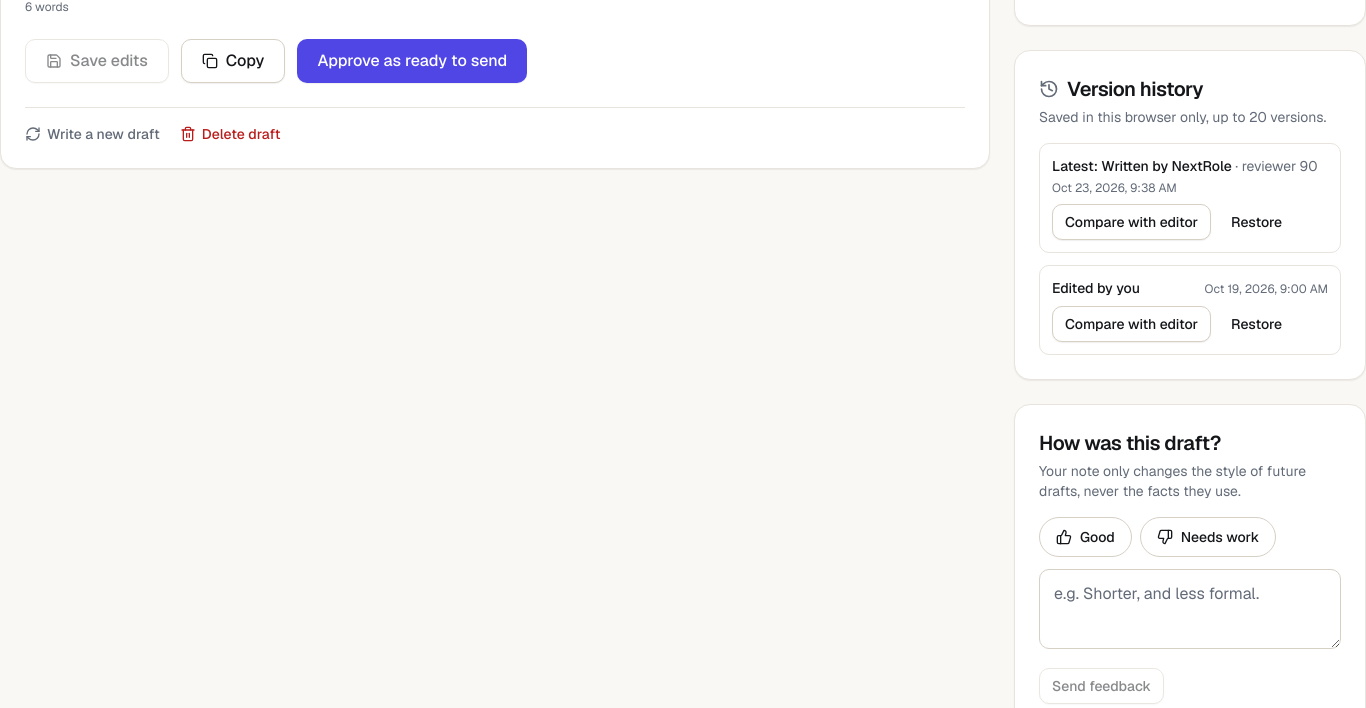
Test: OutreachPage › records version history and restores an earlier version into the editor
(page scrolled)
expect the text "Latest: Written by NextRole · reviewer 90" is shown: met, box x1=1052 y1=156 x2=1317 y2=176
Click the button "Compare with editor" below "Edited by you".
click(1132, 324)  # box x1=1052 y1=306 x2=1211 y2=342
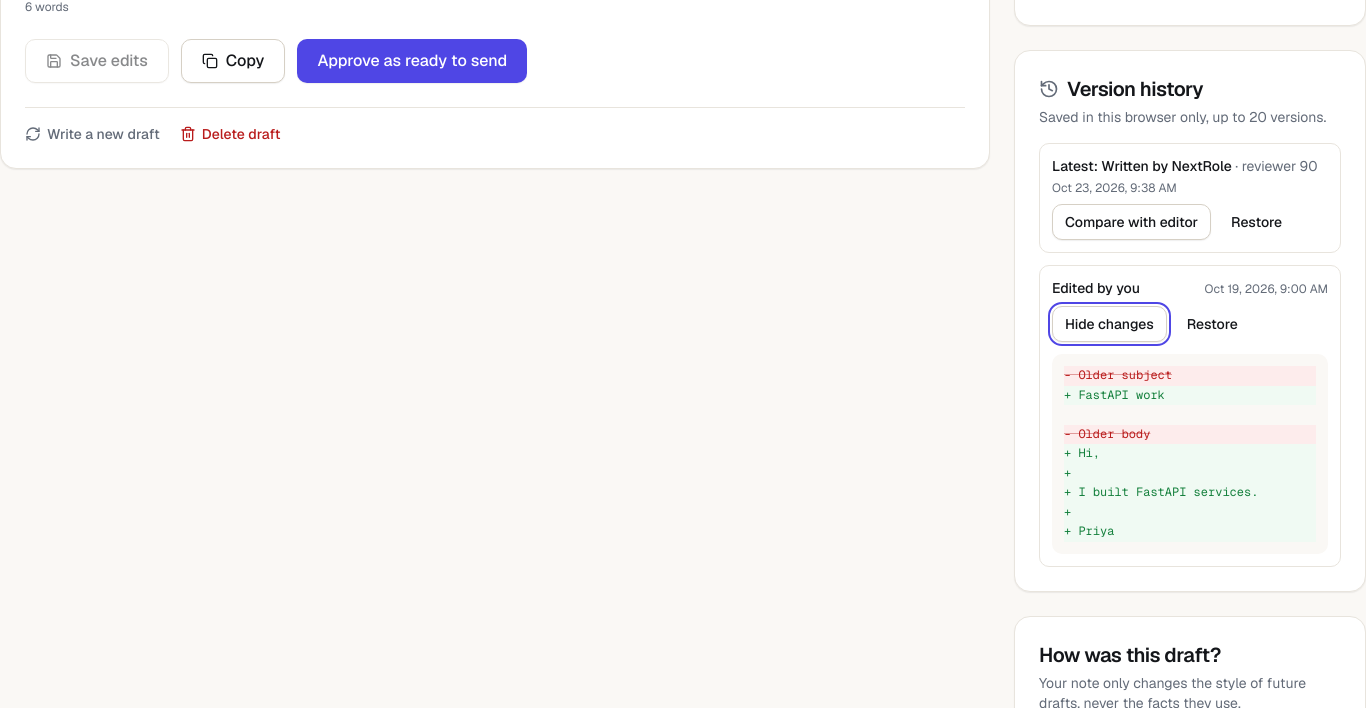
Click the button "Restore" below "Edited by you".
click(1212, 324)  # box x1=1175 y1=306 x2=1250 y2=342
(page scrolled)
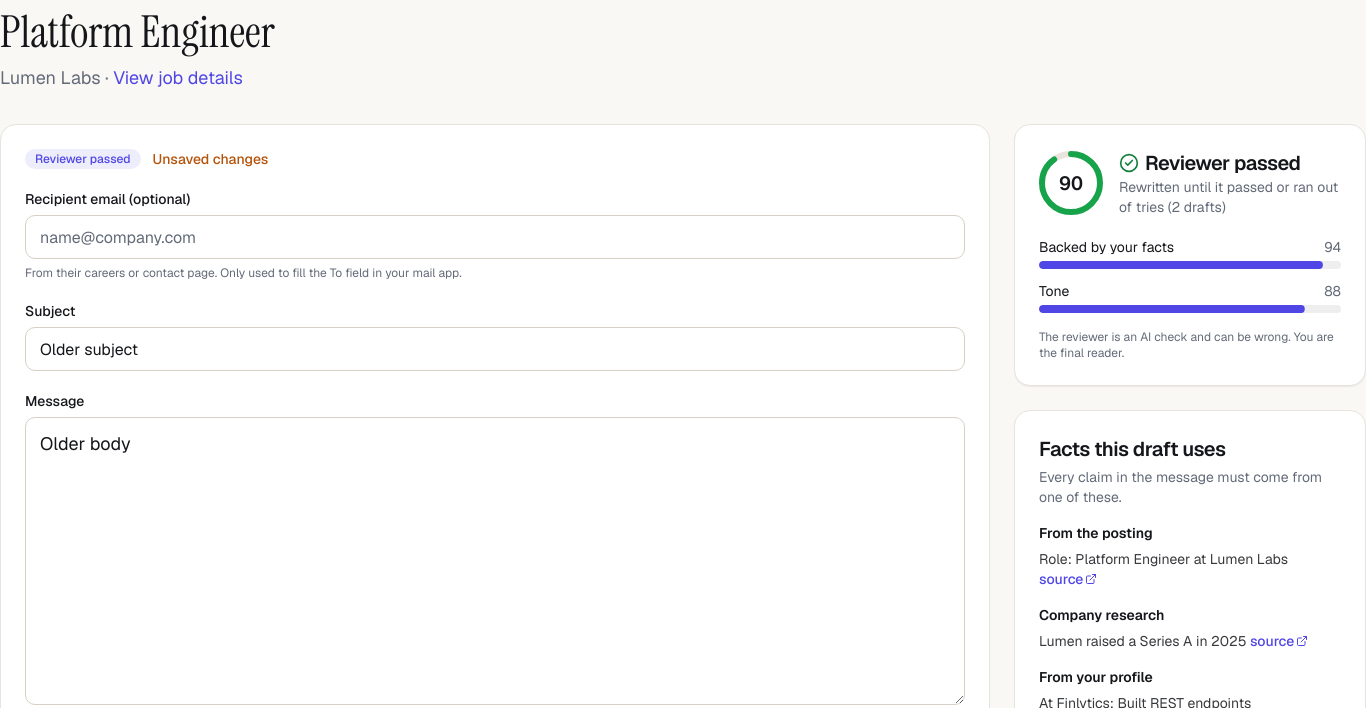
expect the field labelled "Subject" holds "Older subject": met, box x1=25 y1=327 x2=965 y2=371
expect the text box labelled "Message" holds "Older body": met, box x1=25 y1=417 x2=965 y2=705
expect the text "Unsaved changes" is shown: met, box x1=152 y1=149 x2=268 y2=169
